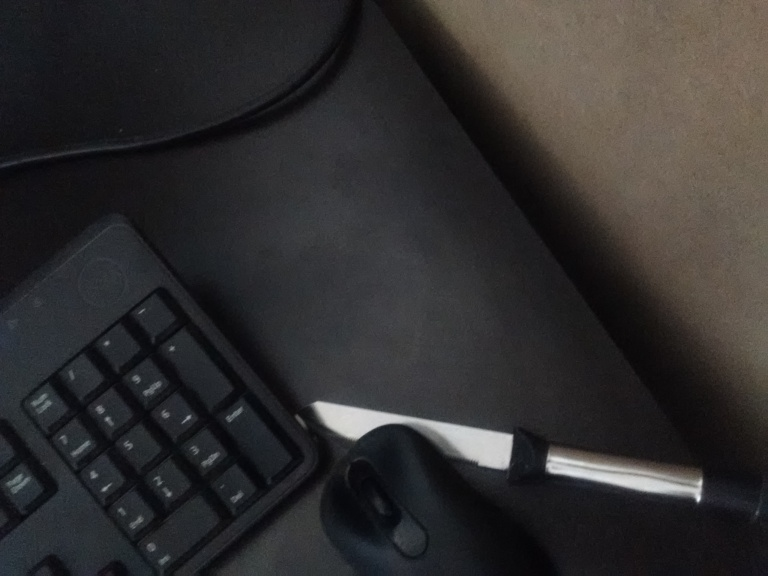knife: (290, 399, 768, 524)
